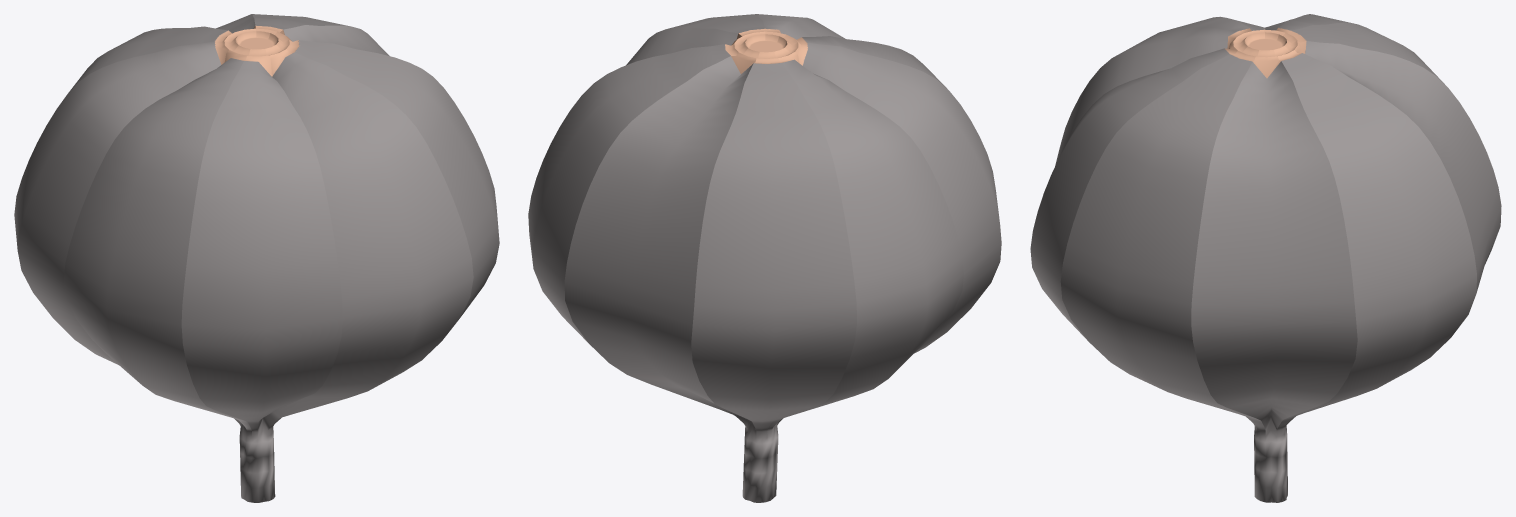
Rendered from Bawang.glb.
3 views of the same model, side by side, from view 1: azimuth 30°, elevation 25°; view 2: azimuth 150°, elevation 25°; view 3: azimuth 270°, elevation 25° (orthographic).
Visible parts, largest first — view 1: Bawang; view 2: Bawang; view 3: Bawang.
Boxes of the visible parts, x1,y1,x2,y2 form: Bawang: (14, 14, 499, 502); Bawang: (528, 14, 1001, 502); Bawang: (1030, 14, 1501, 502).
Bounding box in the file's own units: 1.71 × 1.86 × 1.75.
1 material, 1 textured.
